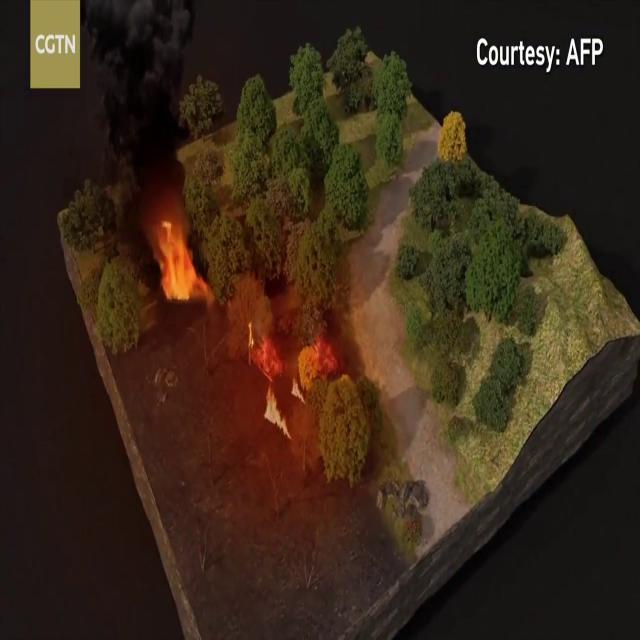Fire: (246, 318, 334, 442), (152, 209, 202, 303)
Smoke: (80, 1, 194, 226)
